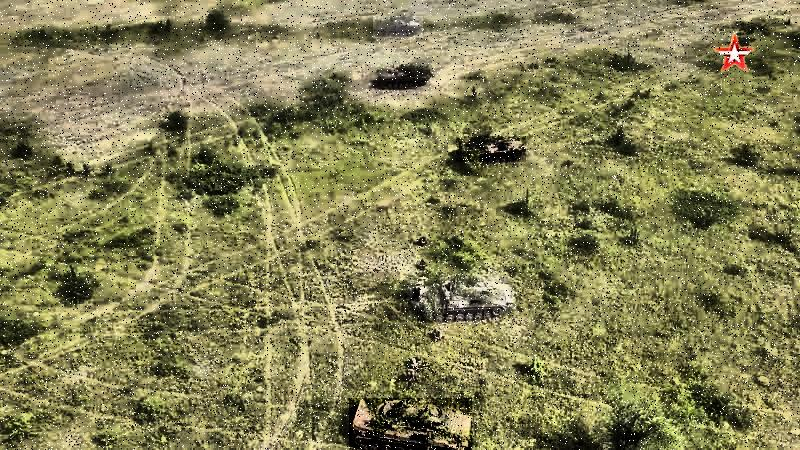military-vehicle: (349, 398, 472, 450), (407, 277, 515, 319), (456, 136, 526, 162), (378, 69, 433, 89), (374, 16, 424, 38)
